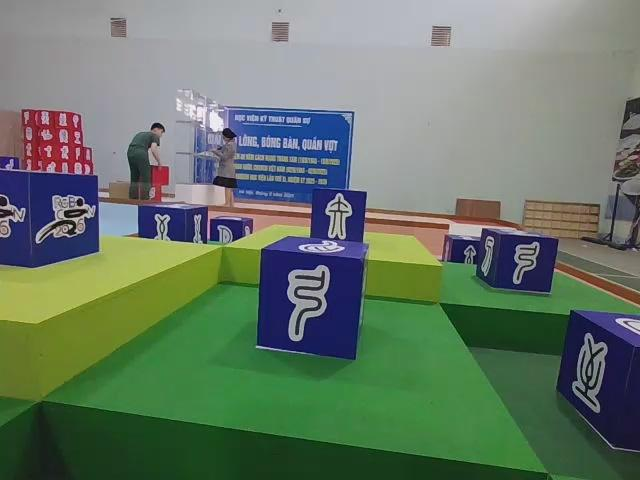R1 Blue: (1, 170, 102, 270)
R2 Fake Blue: (257, 235, 369, 362), (560, 311, 640, 459), (475, 228, 558, 297), (311, 189, 368, 246)
R2 Real Blue: (137, 203, 208, 245), (439, 236, 480, 266), (210, 214, 253, 242)
